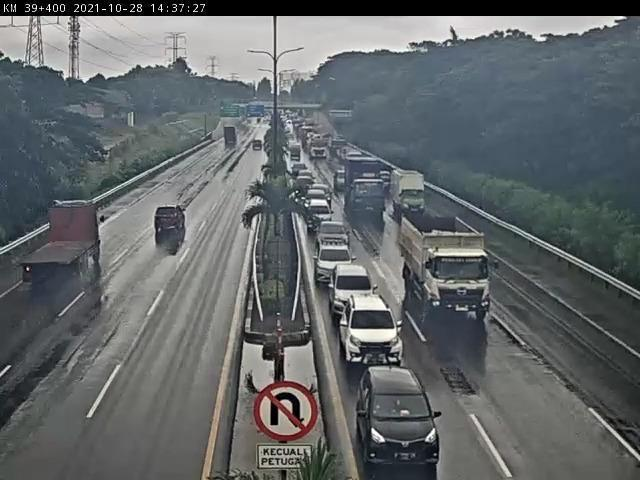car: (358, 368, 445, 466), (339, 295, 403, 368), (331, 263, 379, 323), (311, 238, 357, 285), (315, 220, 353, 255), (305, 199, 334, 235), (155, 207, 188, 236)
truck: (400, 213, 498, 318), (24, 202, 107, 285), (343, 155, 387, 220), (390, 171, 428, 215)
